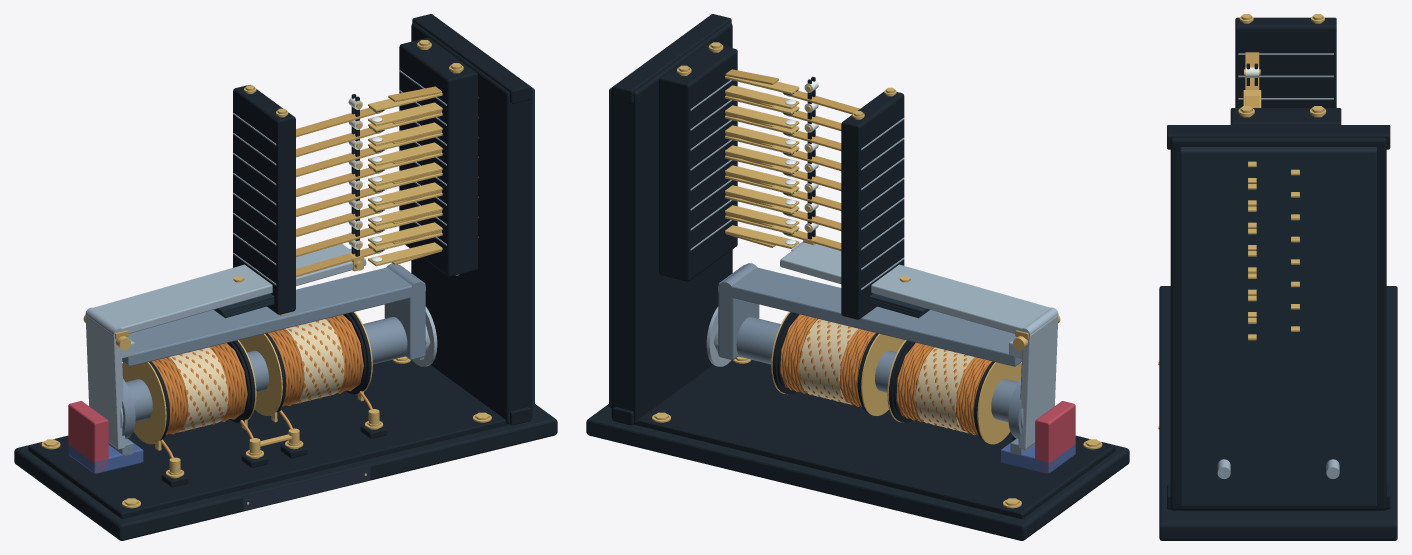
The model's file is JPXC-1000-picked.glb.
The picture shows the model from 3 angles, left to right: view 1: azimuth 30°, elevation 25°; view 2: azimuth 150°, elevation 25°; view 3: azimuth 270°, elevation 25°; orthographic projection. The views are drawn at different scales.
Parts seen in each view (by area): view 1: base (×6), contactBlock (×2), coil (×6), yoke (×2), armature (×2), back (×8), common (×8), permanent (×2), core; view 2: base (×5), contactBlock (×2), coil (×6), armature (×2), yoke (×2), back (×8), permanent (×2), core; view 3: base (×4), contactBlock (×2), common.
Boxes of the visible parts, left/top/right/bottom form: base (×6): left=14, top=14, right=557, bottom=540; contactBlock (×2): left=233, top=38, right=477, bottom=314; coil (×6): left=122, top=314, right=363, bottom=444; yoke (×2): left=122, top=264, right=425, bottom=366; armature (×2): left=85, top=244, right=352, bottom=449; back (×8): left=368, top=102, right=442, bottom=266; common (×8): left=296, top=107, right=383, bottom=276; permanent (×2): left=68, top=401, right=143, bottom=473; core: left=125, top=317, right=407, bottom=422; base (×5): left=586, top=14, right=1129, bottom=540; contactBlock (×2): left=659, top=42, right=904, bottom=319; coil (×6): left=780, top=314, right=1021, bottom=444; armature (×2): left=780, top=242, right=1058, bottom=449; yoke (×2): left=718, top=264, right=1021, bottom=366; back (×8): left=725, top=85, right=799, bottom=248; permanent (×2): left=1000, top=401, right=1075, bottom=473; core: left=736, top=317, right=1018, bottom=422; base (×4): left=1159, top=125, right=1397, bottom=540; contactBlock (×2): left=1230, top=17, right=1341, bottom=124; common: left=1245, top=52, right=1259, bottom=89.
Bounding box in the file's own units: 6.05 × 4.73 × 2.55.
